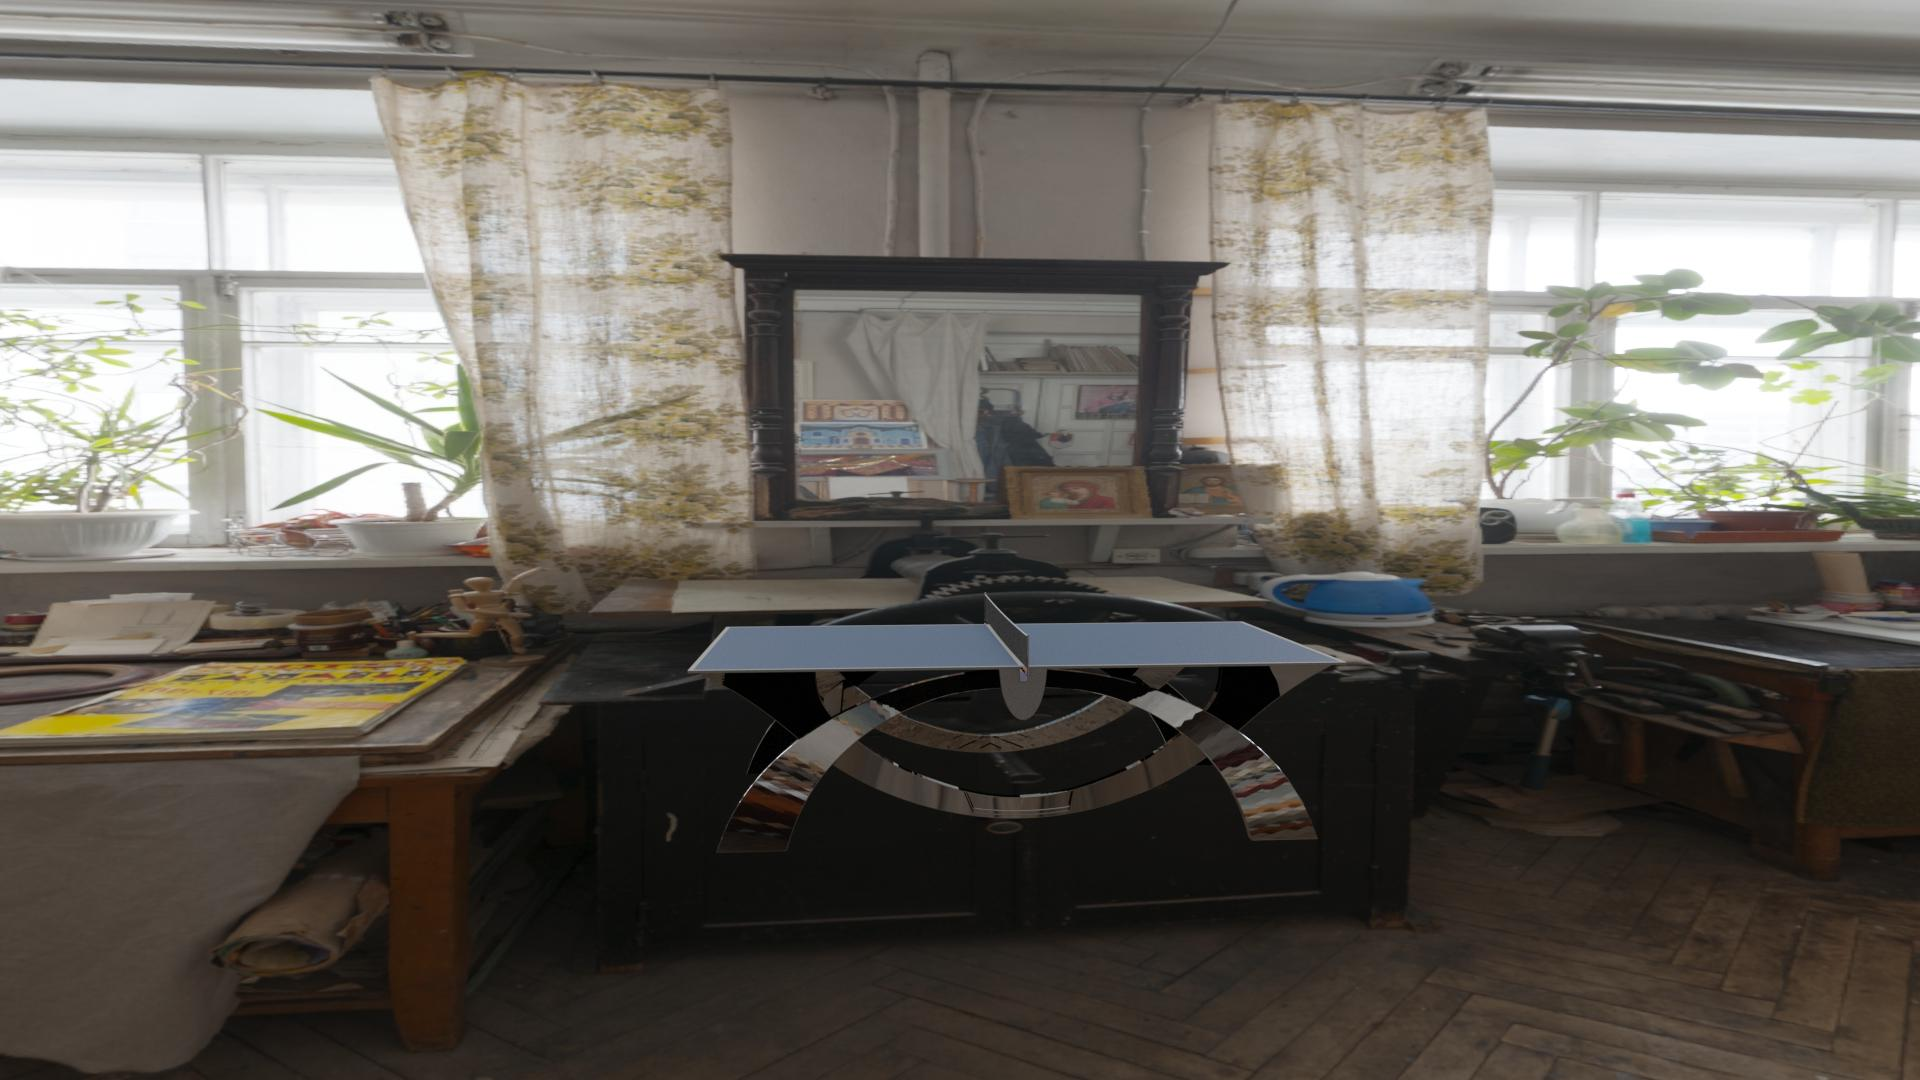table: (694, 622, 1340, 670)
